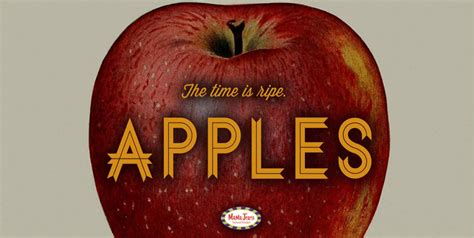apple: (84, 2, 392, 238)
